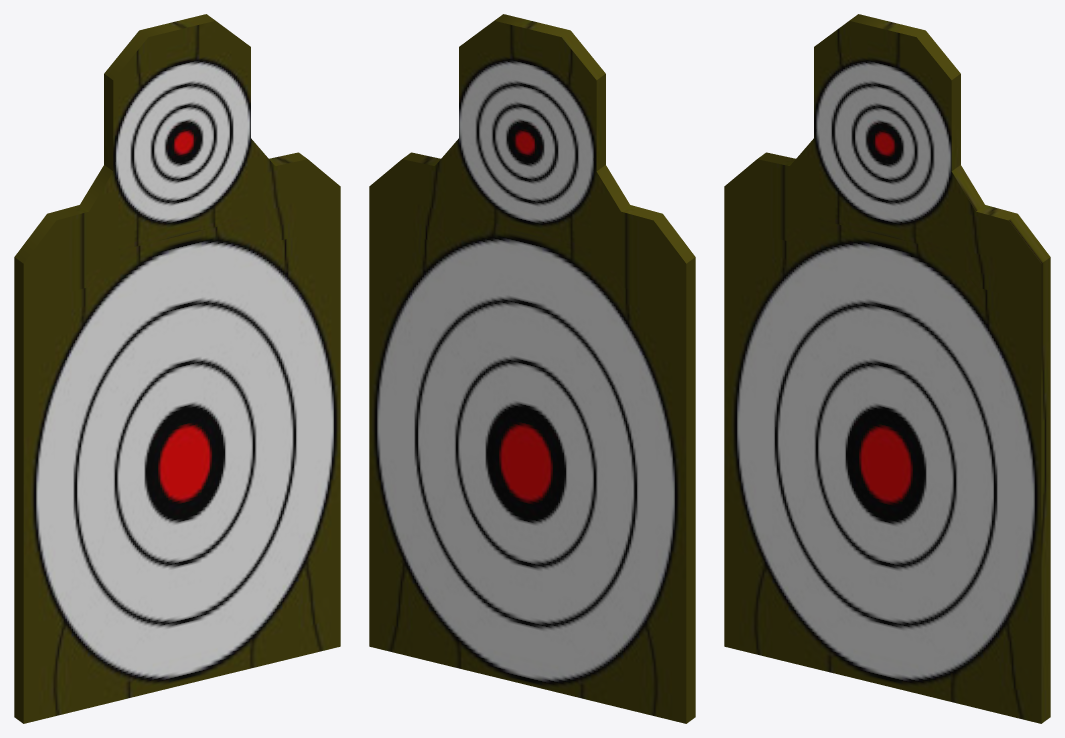
Rendered from New Board.fbx.
3 renders of one model, left to right at view 1: azimuth 30°, elevation 25°; view 2: azimuth 150°, elevation 25°; view 3: azimuth 330°, elevation 25°, orthographic.
Visible parts, largest first — view 1: pCube3; view 2: pCube3; view 3: pCube3.
Part boxes in pixels (box(x1,y1,x2,y2)): pCube3: box(14, 14, 340, 723); pCube3: box(369, 14, 695, 723); pCube3: box(724, 14, 1050, 723).
Bounding box in the file's own units: 12.59 × 24.91 × 0.6344.
1 material, 1 textured.
